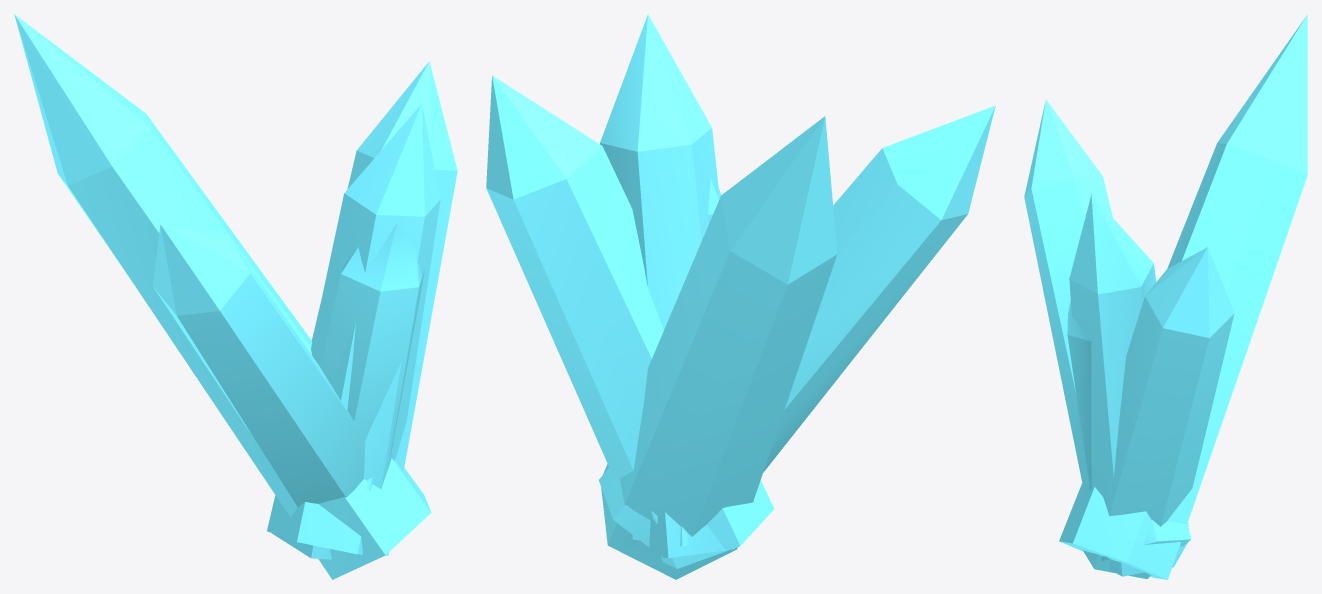
File: obj_deco_cristales_3.glb
3 views of the same model, side by side, from view 1: azimuth 30°, elevation 25°; view 2: azimuth 150°, elevation 25°; view 3: azimuth 270°, elevation 25° (orthographic). The views are drawn at different scales.
Parts seen in each view (by area): view 1: propforge-libre-deco_cristales; view 2: propforge-libre-deco_cristales; view 3: propforge-libre-deco_cristales.
Part boxes in pixels (x1,y1,x2,y2): propforge-libre-deco_cristales: (14, 14, 457, 579); propforge-libre-deco_cristales: (486, 14, 995, 579); propforge-libre-deco_cristales: (1024, 14, 1307, 579).
Bounding box in the file's own units: 0.3079 × 0.4319 × 0.2367.
